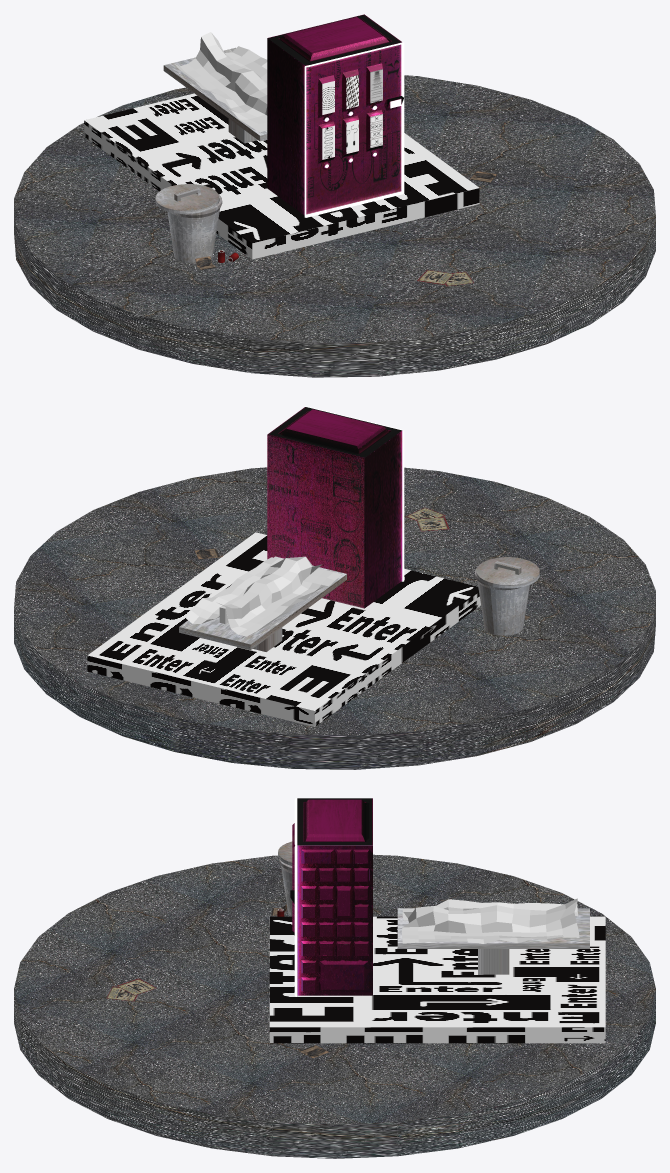
File: proj5.glb
3 renders of one model, top to bottom at view 1: azimuth 30°, elevation 25°; view 2: azimuth 150°, elevation 25°; view 3: azimuth 270°, elevation 25°, orthographic.
Parts seen in each view (by area): view 1: floor, Cube, machine, Plane.004, Cylinder.002, glowingtube, Cube.027; view 2: floor, Cube, machine, Plane.004, Cylinder.002, Cube.027, glowingtube; view 3: floor, Cube, machine, Plane.004, Cube.027, glowingtube, Cylinder.002.
Boxes of the visible parts, x1,y1,x2,y2 form: floor: (14,75,655,377); Cube: (84,93,479,259); machine: (267,14,401,215); Plane.004: (174,32,267,132); Cylinder.002: (155,184,222,263); glowingtube: (304,42,404,217); Cube.027: (163,47,267,143); floor: (14,467,655,769); Cube: (87,532,480,726); machine: (267,407,402,608); Plane.004: (186,556,341,636); Cylinder.002: (475,557,539,635); Cube.027: (179,556,346,651); glowingtube: (304,406,404,581); floor: (14,854,655,1158); Cube: (269,916,605,1043); machine: (292,798,372,995); Plane.004: (401,898,579,943); Cube.027: (397,908,589,974); glowingtube: (294,798,297,996); Cylinder.002: (278,841,292,916).
Bounding box in the file's own units: 7.17 × 2.54 × 7.17.
Materials: 29 (20 with a texture image).
